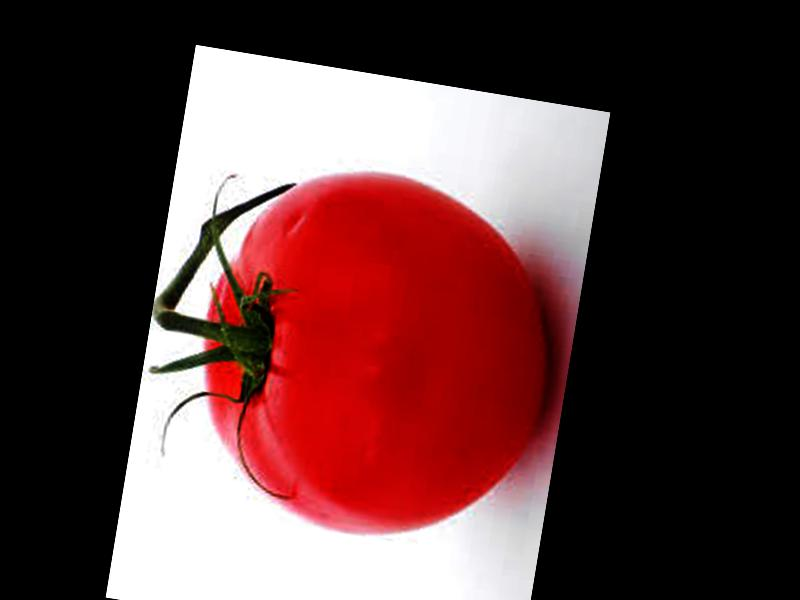Tomato: (178, 152, 577, 564)
